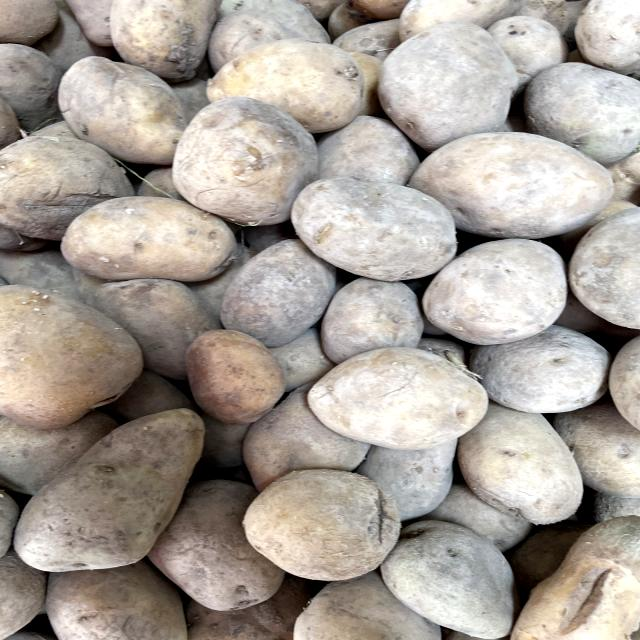potato: (6, 399, 226, 575), (296, 333, 508, 453), (405, 127, 616, 239), (372, 10, 537, 149), (232, 457, 405, 588), (46, 185, 250, 292), (411, 223, 577, 345), (289, 168, 460, 283), (51, 49, 204, 172), (207, 36, 376, 135), (165, 319, 300, 423)
